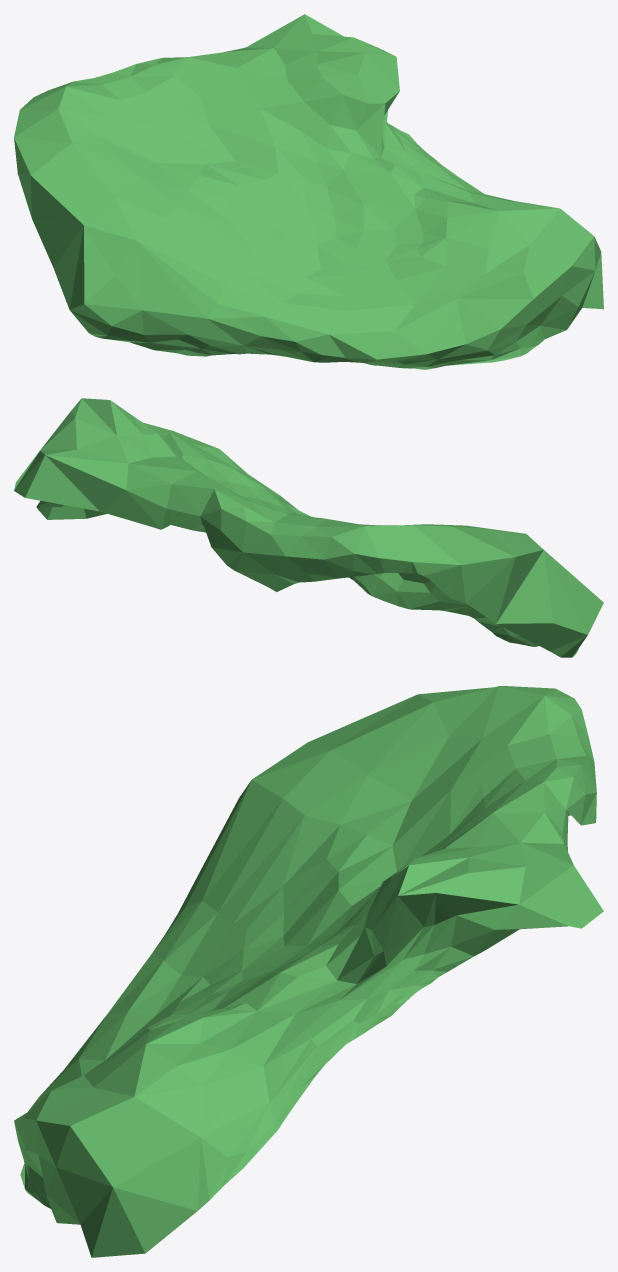
The model's file is ground.074.fbx.
The picture shows the model from 3 angles, top to bottom: view 1: azimuth 30°, elevation 25°; view 2: azimuth 150°, elevation 25°; view 3: azimuth 270°, elevation 25°; orthographic projection. The views are drawn at different scales.
Visible parts, largest first — view 1: ground_074; view 2: ground_074; view 3: ground_074.
Boxes of the visible parts, bbox=[...] form: ground_074: bbox=[14, 14, 603, 369]; ground_074: bbox=[14, 398, 603, 657]; ground_074: bbox=[14, 686, 603, 1257].
Bounding box in the file's own units: 14534 × 6095 × 10585.
